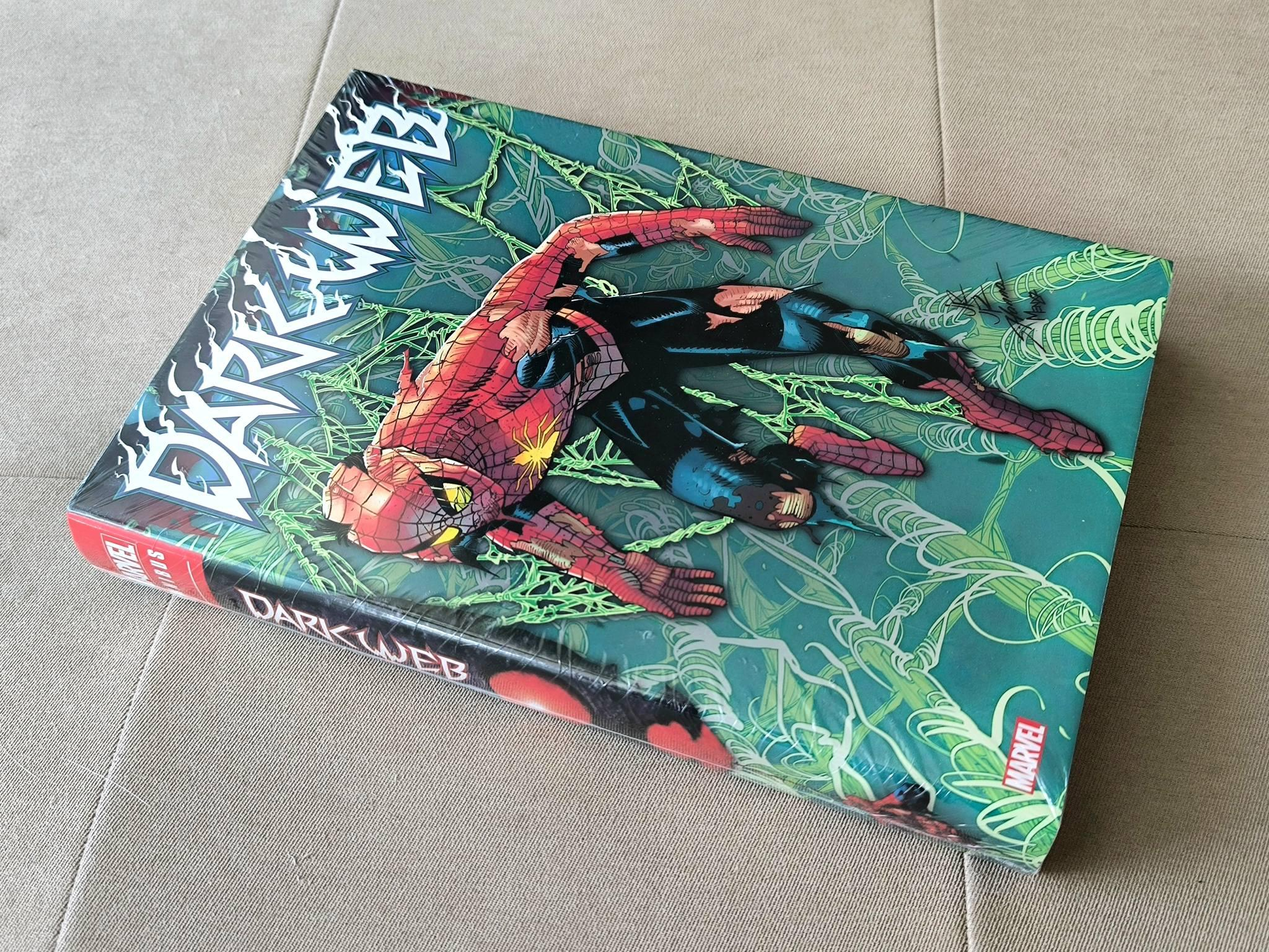comic: (55, 0, 1234, 874)
